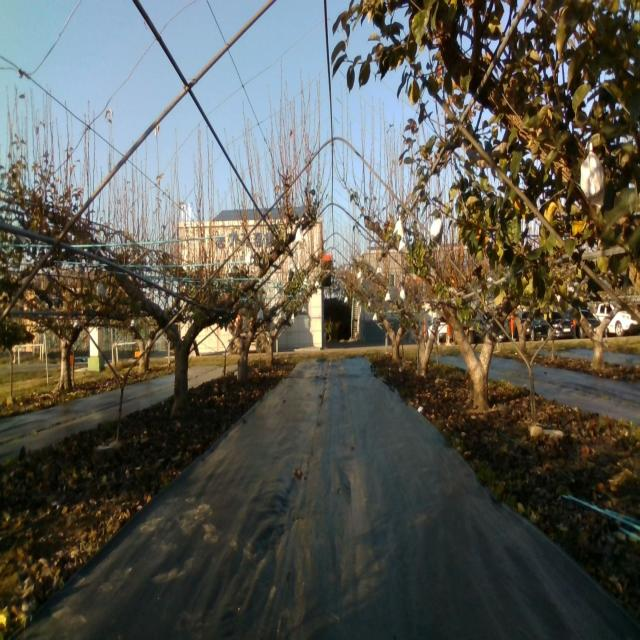pearbags: (579, 150, 606, 208), (430, 217, 443, 243)
